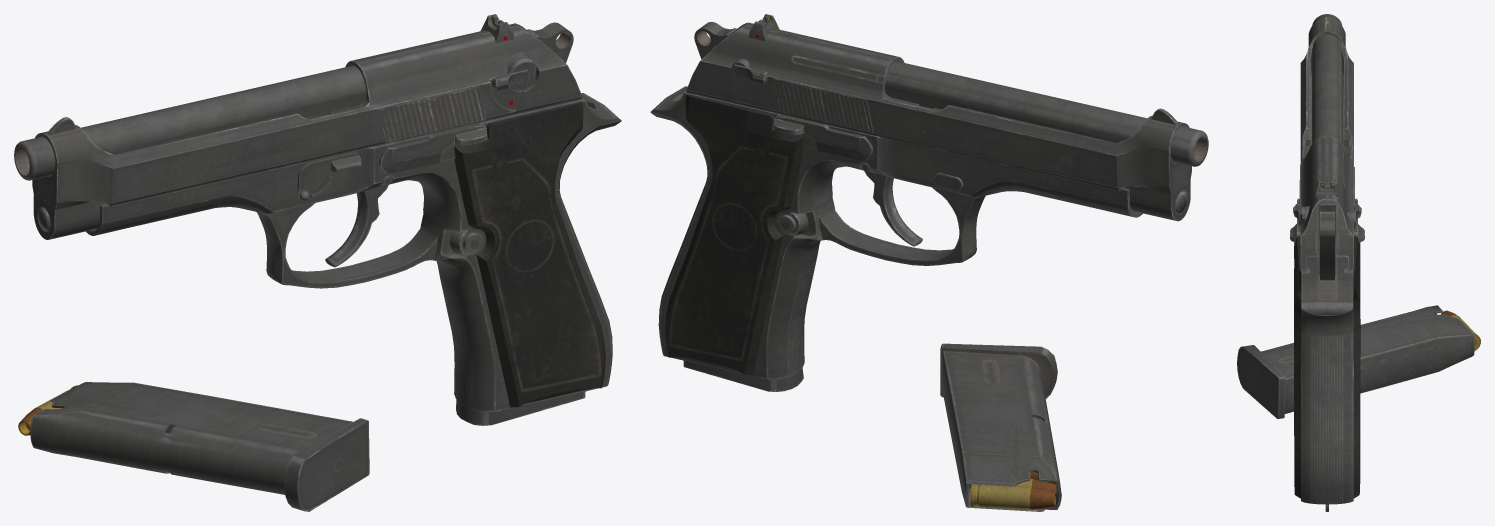
The model's file is beretta_m9.glb.
The picture shows the model from 3 angles, left to right: view 1: azimuth 30°, elevation 25°; view 2: azimuth 150°, elevation 25°; view 3: azimuth 270°, elevation 25°; orthographic projection. The views are drawn at different scales.
Visible parts, largest first — view 1: Gun_BerettaM9_0, Gun001_BerettaM9_0, Magazine_BerettaM9_0; view 2: Gun_BerettaM9_0, Gun001_BerettaM9_0, Magazine_BerettaM9_0; view 3: Gun_BerettaM9_0, Gun001_BerettaM9_0.
Part boxes in pixels (<box>): Gun_BerettaM9_0: <box>14,14,621,425</box>; Gun001_BerettaM9_0: <box>18,382,369,511</box>; Magazine_BerettaM9_0: <box>456,391,585,425</box>; Gun_BerettaM9_0: <box>650,14,1208,390</box>; Gun001_BerettaM9_0: <box>940,343,1061,511</box>; Magazine_BerettaM9_0: <box>683,361,803,391</box>; Gun_BerettaM9_0: <box>1290,14,1364,511</box>; Gun001_BerettaM9_0: <box>1237,305,1480,418</box>.
Bounding box in the file's own units: 3.32 × 2.17 × 1.59.
1 material, 1 textured.
